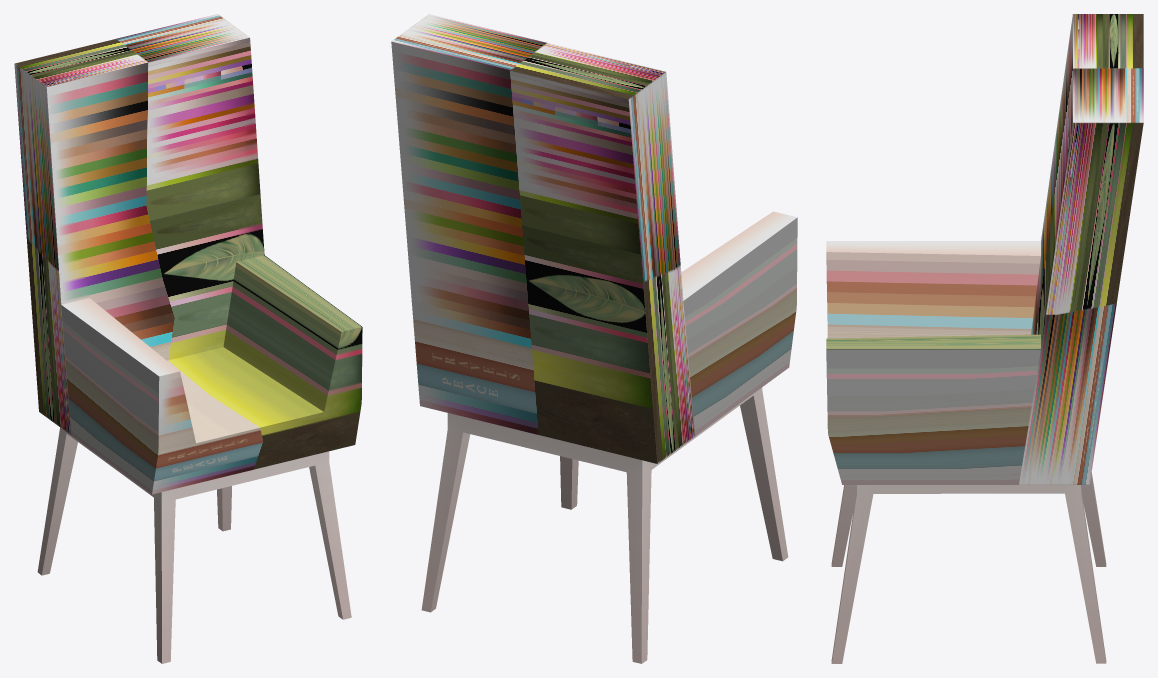
The model's file is Doll_OB_Chair_004_collider.fbx.
3 renders of one model, left to right at view 1: azimuth 30°, elevation 25°; view 2: azimuth 150°, elevation 25°; view 3: azimuth 270°, elevation 25°, orthographic. The views are drawn at different scales.
Visible parts, largest first — view 1: Doll_OB_Chair_004_collider; view 2: Doll_OB_Chair_004_collider; view 3: Doll_OB_Chair_004_collider.
Part boxes in pixels (bbox=[...]): Doll_OB_Chair_004_collider: bbox=[14, 14, 362, 663]; Doll_OB_Chair_004_collider: bbox=[391, 14, 797, 663]; Doll_OB_Chair_004_collider: bbox=[826, 14, 1143, 663].
Size of the model in its own units: 39.26 by 91.8 by 48.41.
Materials: 1 (1 with a texture image).
